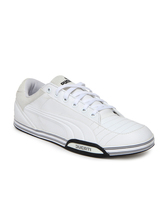shoes: (13, 71, 161, 156)
